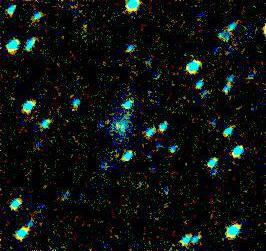star: (99, 109, 129, 139)
